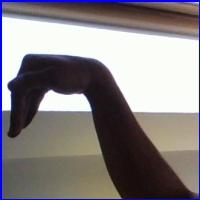A: (5, 51, 118, 148)
